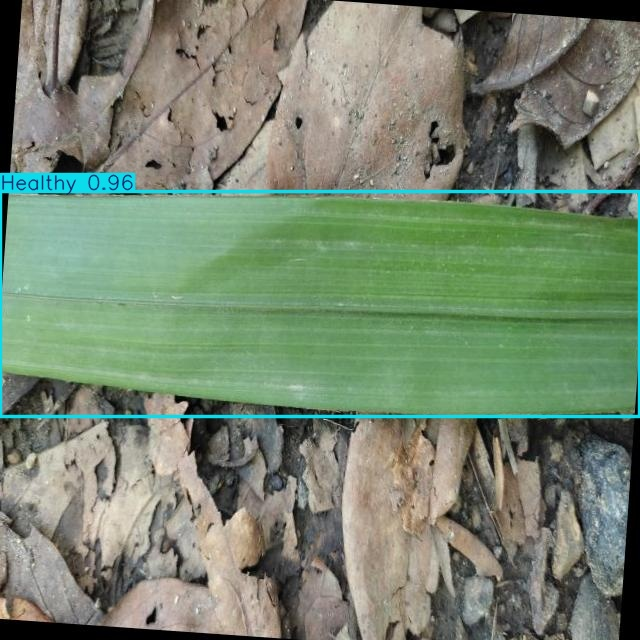Healthy: (0, 191, 639, 416)
